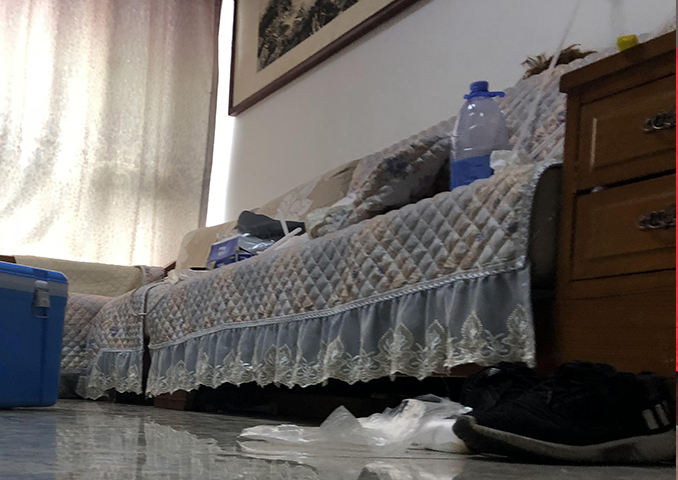curtain: (3, 2, 218, 270)
sofa: (91, 73, 566, 409)
